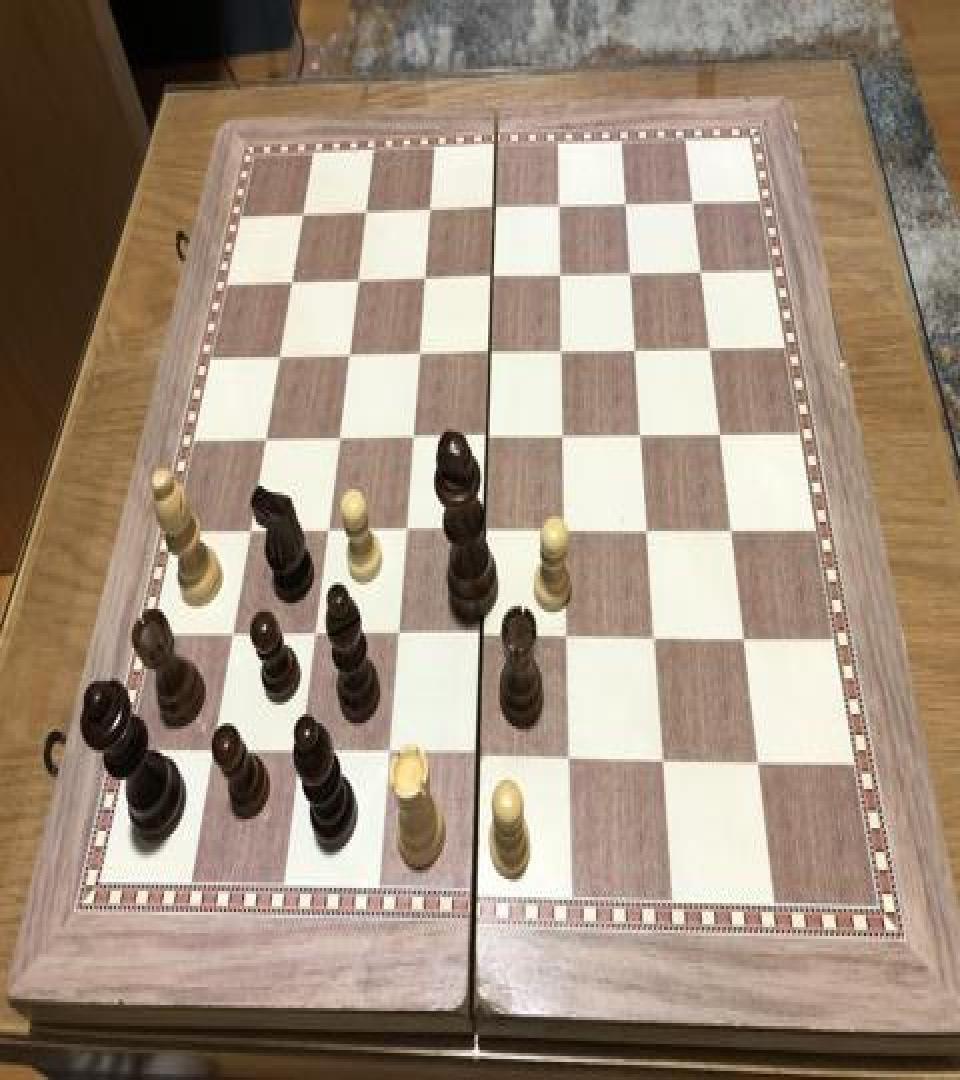xcorner: (387, 616, 411, 653), (304, 616, 328, 653), (468, 739, 492, 776), (202, 733, 226, 770), (680, 183, 704, 219), (613, 186, 637, 222), (482, 189, 506, 225), (418, 192, 442, 228), (355, 194, 379, 230), (292, 196, 316, 232), (689, 252, 713, 288), (618, 254, 642, 290), (549, 256, 573, 292), (481, 258, 505, 294), (347, 261, 371, 297), (281, 262, 305, 298), (698, 330, 722, 366), (624, 330, 648, 366), (551, 332, 575, 368), (479, 333, 503, 369), (408, 334, 432, 370), (338, 336, 362, 372), (269, 338, 293, 374), (709, 416, 733, 452), (630, 416, 654, 452), (553, 417, 577, 453), (476, 417, 500, 453), (401, 418, 425, 454), (328, 418, 352, 454), (255, 420, 279, 456), (720, 512, 744, 548), (637, 512, 661, 548), (555, 512, 579, 548), (474, 512, 498, 548), (394, 512, 418, 548), (316, 512, 340, 548), (239, 512, 263, 548), (734, 621, 758, 657), (645, 620, 669, 656), (557, 620, 581, 656), (471, 618, 495, 654), (222, 615, 246, 651), (749, 746, 773, 782), (654, 744, 678, 780), (560, 741, 584, 777), (378, 736, 402, 772), (289, 735, 313, 771), (547, 188, 571, 223), (413, 260, 437, 295)
